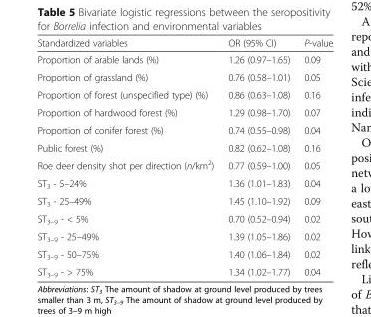table: (36, 36, 332, 278)
table column: (36, 36, 220, 278), (220, 36, 296, 278), (296, 36, 332, 278)
table column header: (36, 36, 332, 50)
table row: (36, 155, 332, 174), (36, 67, 332, 85), (36, 85, 332, 103), (36, 103, 332, 121), (36, 174, 332, 192), (36, 209, 332, 227), (36, 227, 332, 245), (36, 245, 332, 263), (36, 50, 332, 67), (36, 121, 332, 138), (36, 138, 332, 155), (36, 192, 332, 209), (36, 263, 332, 278), (36, 36, 332, 50)
